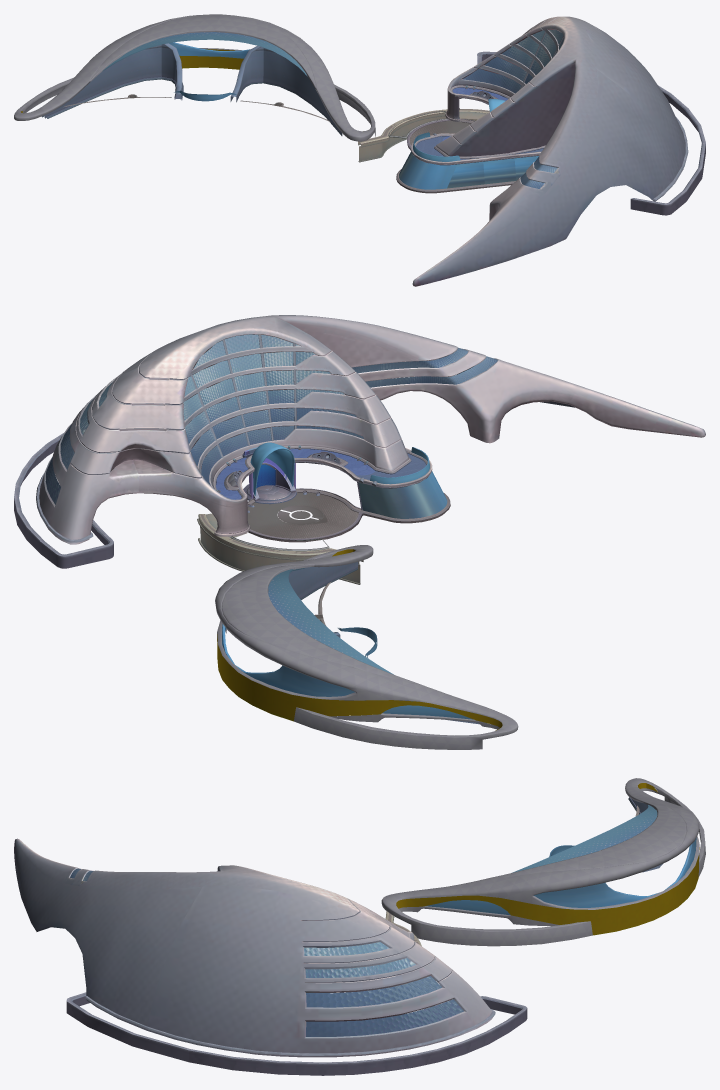
The model's file is pref_sm_4v4pointbake_WSJ_CSD_L_lv0.fbx.
The picture shows the model from 3 angles, top to bottom: view 1: azimuth 30°, elevation 25°; view 2: azimuth 150°, elevation 25°; view 3: azimuth 270°, elevation 25°; orthographic projection. The views are drawn at different scales.
Parts seen in each view (by area): view 1: sm_4v4pointbake_WSJ_CSD_L_a_lv0, sm_4v4pointbake_WSJ_CSD_L_g_lv0, sm_4v4pointbake_WSJ_CSD_L_h_lv0, sm_4v4pointbake_WSJ_CSD_L_b_lv0, sm_4v4pointbake_WSJ_CSD_L_i_lv0, sm_4v4pointbake_WSJ_CSD_L_j_lv0, sm_4v4pointbake_WSJ_CSD_L_f_lv0; view 2: sm_4v4pointbake_WSJ_CSD_L_a_lv0, sm_4v4pointbake_WSJ_CSD_L_b_lv0, sm_4v4pointbake_WSJ_CSD_L_g_lv0, sm_4v4pointbake_WSJ_CSD_L_h_lv0, sm_4v4pointbake_WSJ_CSD_L_i_lv0, sm_4v4pointbake_WSJ_CSD_L_j_lv0, sm_4v4pointbake_WSJ_CSD_L_f_lv0, sm_4v4pointbake_WSJ_CSD_L_d_lv0; view 3: sm_4v4pointbake_WSJ_CSD_L_a_lv0, sm_4v4pointbake_WSJ_CSD_L_g_lv0, sm_4v4pointbake_WSJ_CSD_L_b_lv0, sm_4v4pointbake_WSJ_CSD_L_h_lv0, sm_4v4pointbake_WSJ_CSD_L_i_lv0.
Boxes of the visible parts, x1,y1,x2,y2 form: sm_4v4pointbake_WSJ_CSD_L_a_lv0: (396,16,705,286); sm_4v4pointbake_WSJ_CSD_L_g_lv0: (14,14,375,141); sm_4v4pointbake_WSJ_CSD_L_h_lv0: (21,43,342,135); sm_4v4pointbake_WSJ_CSD_L_b_lv0: (399,29,563,189); sm_4v4pointbake_WSJ_CSD_L_i_lv0: (102,32,307,101); sm_4v4pointbake_WSJ_CSD_L_j_lv0: (358,109,489,162); sm_4v4pointbake_WSJ_CSD_L_f_lv0: (409,120,470,145); sm_4v4pointbake_WSJ_CSD_L_a_lv0: (14,315,705,568); sm_4v4pointbake_WSJ_CSD_L_b_lv0: (45,334,497,518); sm_4v4pointbake_WSJ_CSD_L_g_lv0: (215,545,518,749); sm_4v4pointbake_WSJ_CSD_L_h_lv0: (217,549,502,730); sm_4v4pointbake_WSJ_CSD_L_i_lv0: (222,568,473,719); sm_4v4pointbake_WSJ_CSD_L_j_lv0: (197,513,363,584); sm_4v4pointbake_WSJ_CSD_L_f_lv0: (247,492,358,538); sm_4v4pointbake_WSJ_CSD_L_d_lv0: (277,505,323,524); sm_4v4pointbake_WSJ_CSD_L_a_lv0: (14,838,527,1075); sm_4v4pointbake_WSJ_CSD_L_g_lv0: (381,778,705,946); sm_4v4pointbake_WSJ_CSD_L_b_lv0: (70,868,463,1036); sm_4v4pointbake_WSJ_CSD_L_h_lv0: (396,783,699,935); sm_4v4pointbake_WSJ_CSD_L_i_lv0: (426,805,696,914).
Size of the model in its own units: 73.91 by 17.49 by 75.68.
